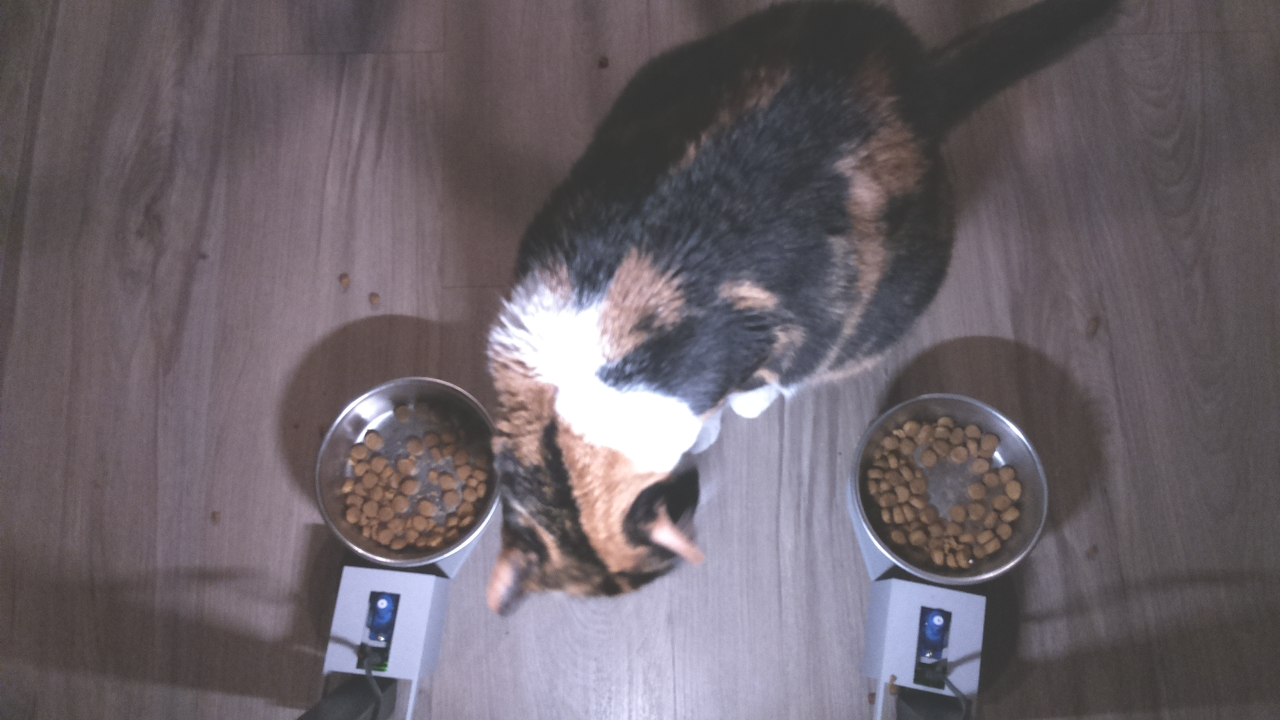bella: (500, 370, 712, 623)
open_bowl: (847, 386, 1052, 587), (305, 368, 505, 568)
